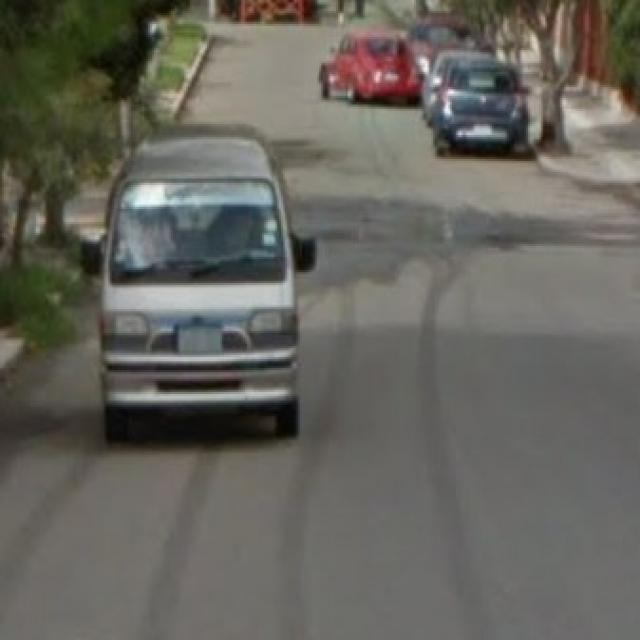cars: (84, 124, 320, 457), (450, 46, 540, 175), (312, 12, 424, 109)
